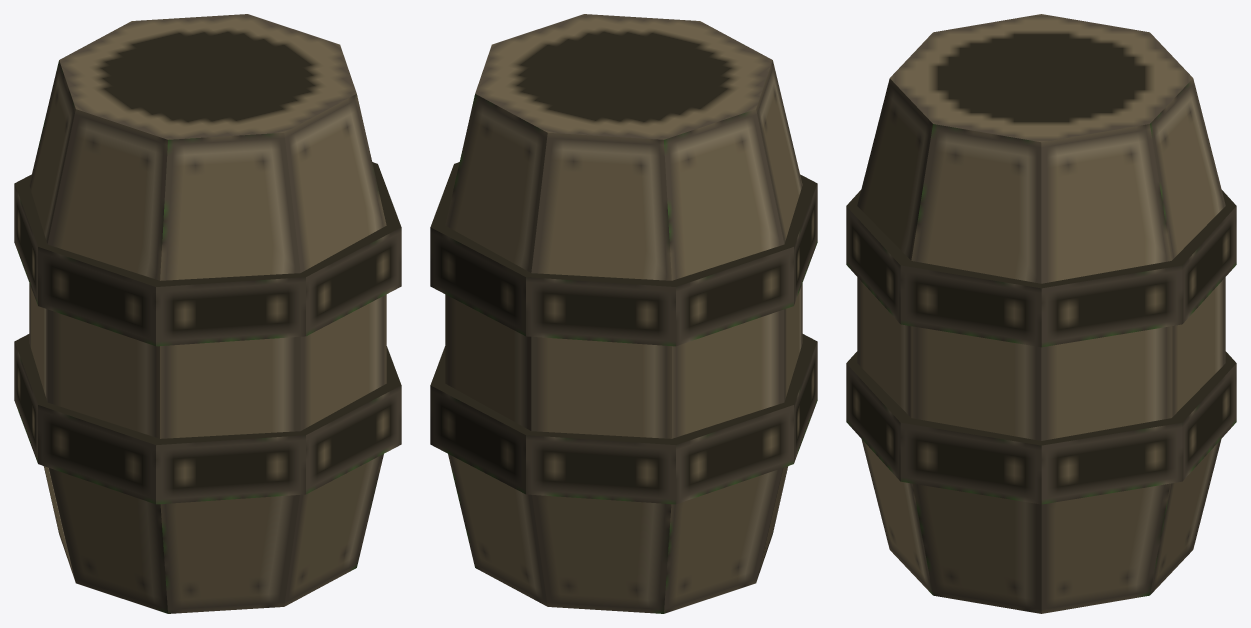
File: Barrel.fbx
3 renders of one model, left to right at view 1: azimuth 30°, elevation 25°; view 2: azimuth 150°, elevation 25°; view 3: azimuth 270°, elevation 25°, orthographic.
Visible parts, largest first — view 1: Barrel; view 2: Barrel; view 3: Barrel.
Boxes of the visible parts, <box> form: Barrel: <box>14,14,401,613</box>; Barrel: <box>430,14,817,613</box>; Barrel: <box>846,14,1236,613</box>.
Bounding box in the file's own units: 112 × 150 × 112.
